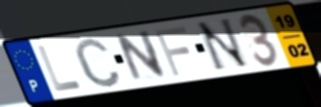3: (238, 11, 281, 70)
C: (71, 36, 124, 90)
F: (153, 24, 192, 78)
L: (35, 44, 85, 95)
N: (194, 16, 253, 74), (114, 28, 169, 85)
